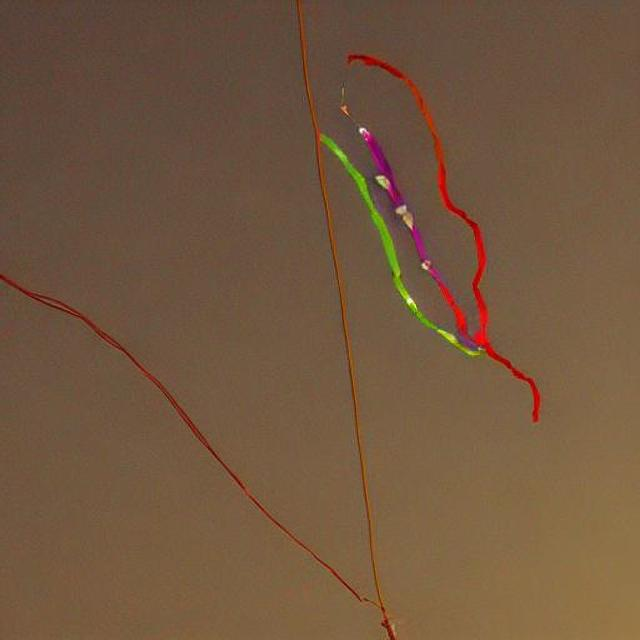floating object: (335, 14, 556, 422)
